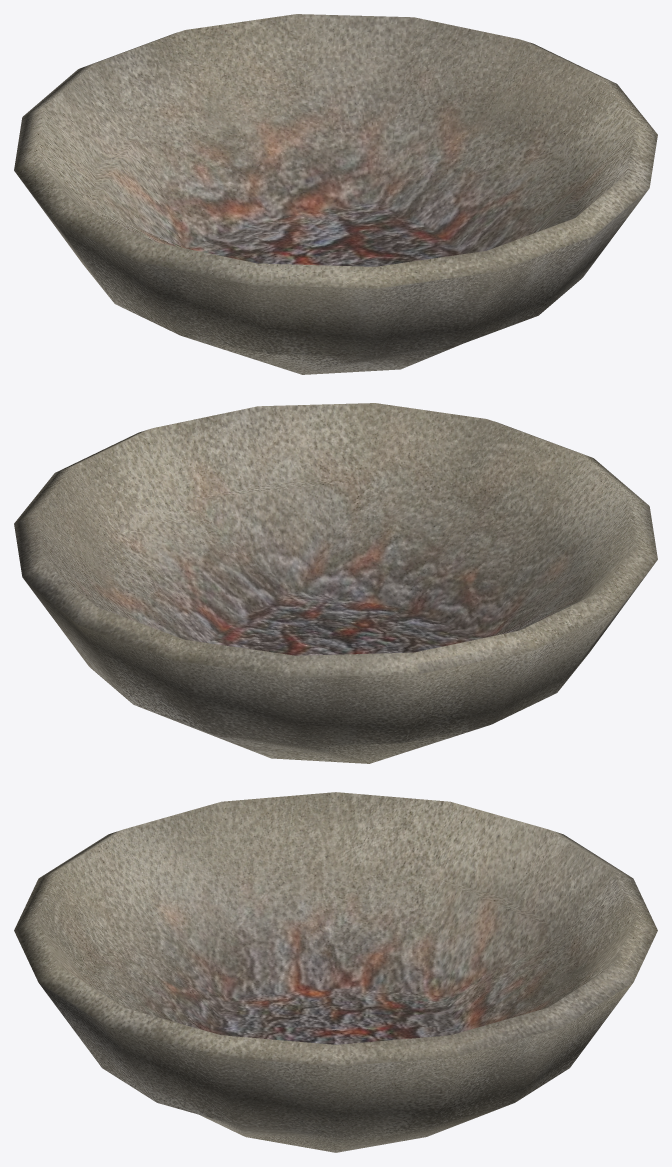
The model's file is Brazier.fbx.
The picture shows the model from 3 angles, top to bottom: view 1: azimuth 30°, elevation 25°; view 2: azimuth 150°, elevation 25°; view 3: azimuth 270°, elevation 25°; orthographic projection.
Parts seen in each view (by area): view 1: Brazier; view 2: Brazier; view 3: Brazier.
Boxes of the visible parts, x1,y1,x2,y2 form: Brazier: (14,14,657,374); Brazier: (14,403,657,763); Brazier: (14,792,657,1152).
Bounding box in the file's own units: 36.61 × 11.3 × 36.61.
